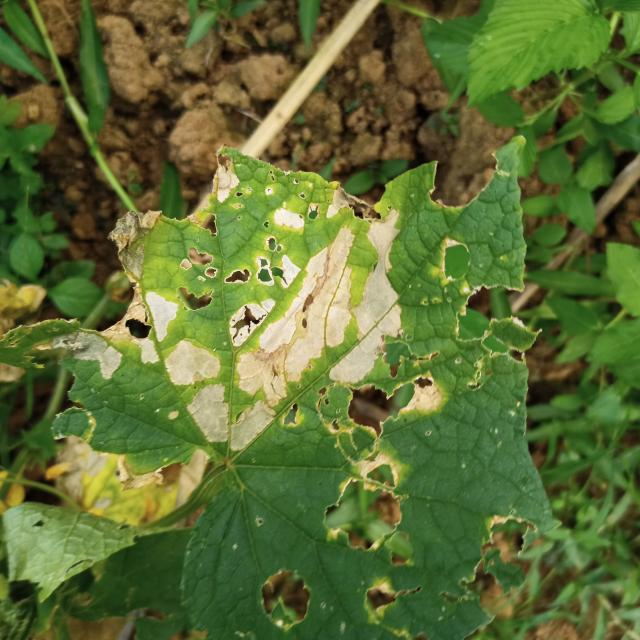disease_cucumber: (117, 171, 489, 544)
